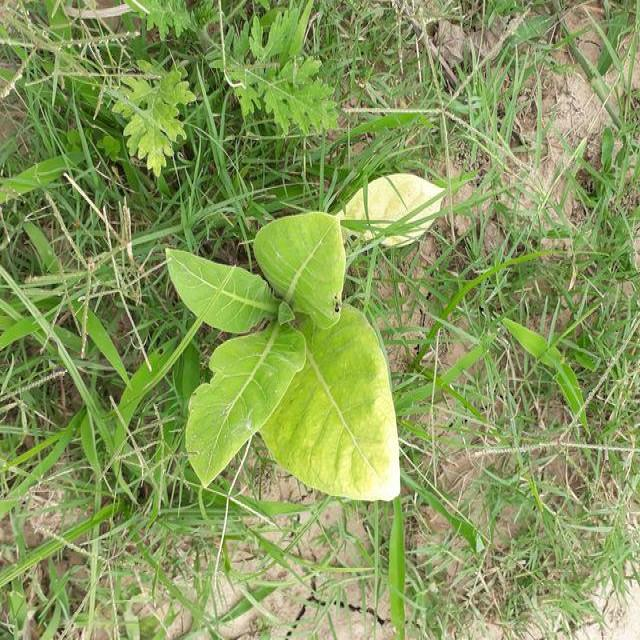crop: (188, 195, 406, 508)
